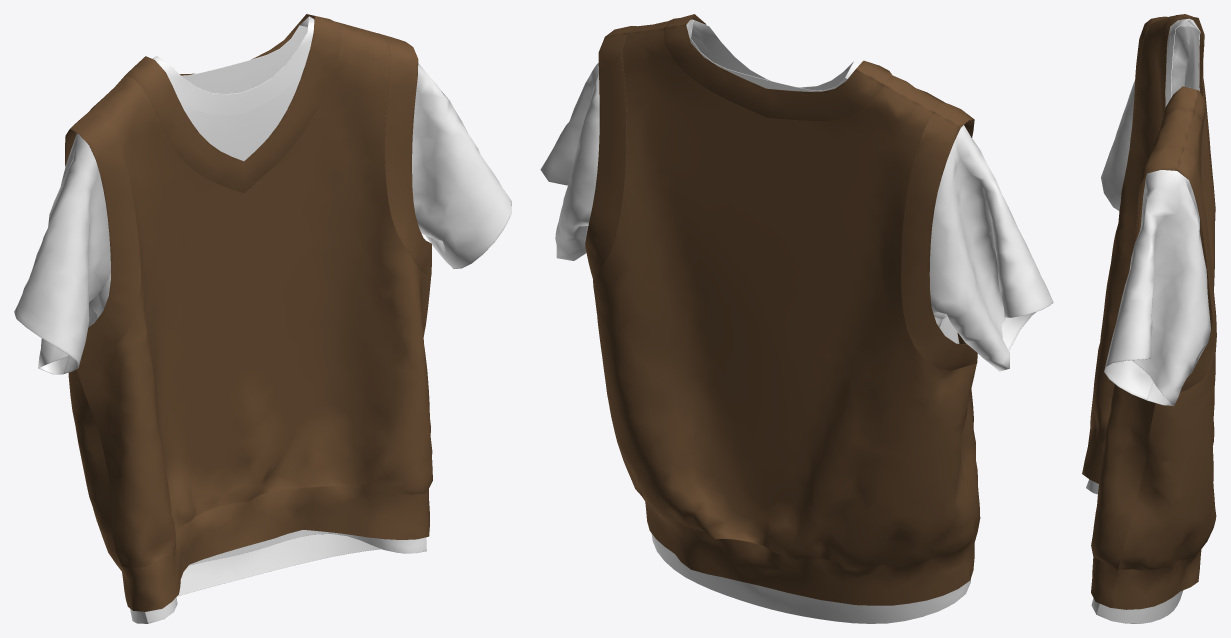
File: FLG_12_03_2.fbx
3 renders of one model, left to right at view 1: azimuth 30°, elevation 25°; view 2: azimuth 150°, elevation 25°; view 3: azimuth 270°, elevation 25°, orthographic. The views are drawn at different scales.
Visible parts, largest first — view 1: FLG_12_03_2; view 2: FLG_12_03_2; view 3: FLG_12_03_2.
Part boxes in pixels (x1,y1,x2,y2): FLG_12_03_2: (14,14,511,623); FLG_12_03_2: (540,14,1053,623); FLG_12_03_2: (1082,14,1216,623).
Size of the model in its own units: 63.22 by 68.48 by 16.
